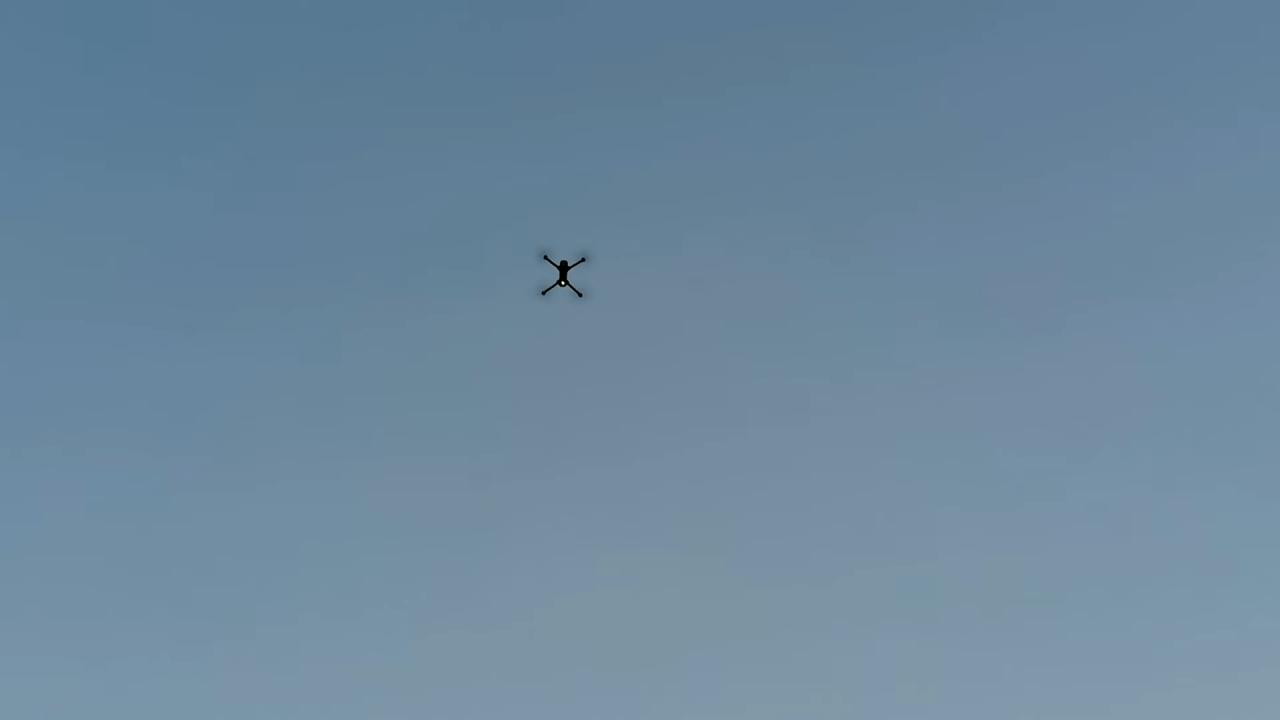Drone: (520, 236, 608, 314)
